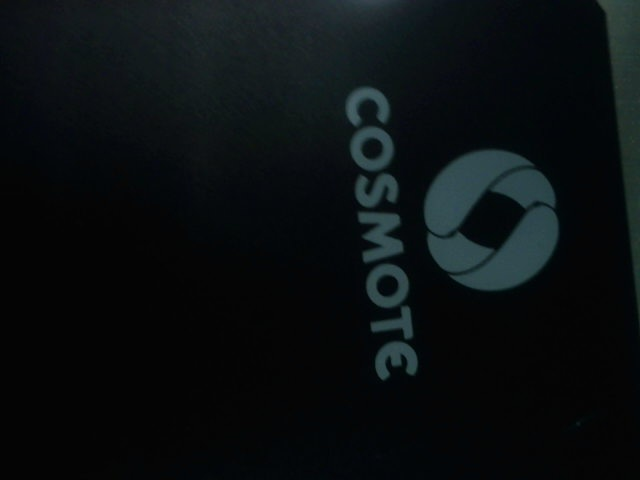AU_COSMOTE: (332, 84, 563, 392)
